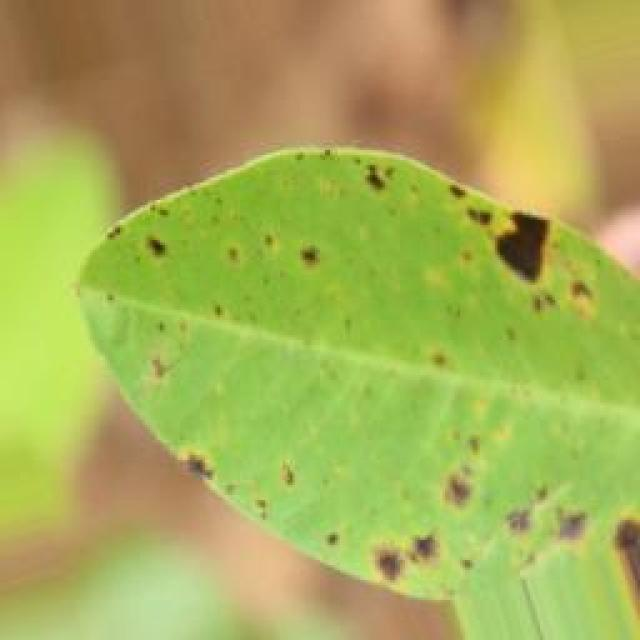Yellowish: (52, 128, 614, 599)
